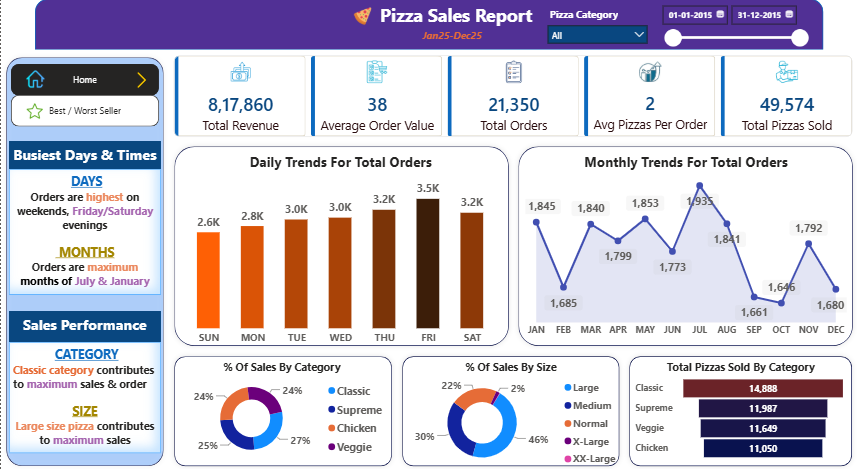

This screenshot's page, from the dashboard's own definition file:
{"tool":"powerbi","page":{"name":"Home","canvas":[1280,720],"ordinal":0},"visuals":[{"type":"cardVisual","fields":{"Data":["pizza_sales.Total Revenue","pizza_sales.Average Order Value","pizza_sales.Total Orders","pizza_sales.Avg Pizzas Per Order","pizza_sales.Total Pizzas Sold"]},"box":[250.3,94.1,1029.7,132.7],"z":0},{"type":"shape","box":[50.4,15.1,1177.5,75.6],"z":1000},{"type":"textbox","box":[529.1,15.1,302.4,50.4],"z":2000},{"type":"textbox","box":[624.9,53.8,109.2,40.3],"z":3000},{"type":"image","box":[517.4,26.9,47,26.9],"z":4000},{"type":"shape","box":[250.3,226.8,515.7,314.1],"z":5000},{"type":"columnChart","title":"Daily Trends For Total Orders","fields":{"Y":["pizza_sales.Total Orders"],"Category":["pizza_sales.Order Day"]},"box":[262,243.6,492.2,297.3],"z":6000},{"type":"shape","box":[764.3,226.8,515.7,314.1],"z":7000},{"type":"shape","box":[250.9,540.6,341,180.2],"z":8000},{"type":"areaChart","title":"Monthly Trends For Total Orders","fields":{"Y":["pizza_sales.Total Orders"],"Category":["pizza_sales.Order Month"]},"box":[778.1,244.2,490.1,284.6],"z":9000},{"type":"shape","box":[591.2,540.6,340.2,180.2],"z":10000},{"type":"shape","box":[931.4,540.6,348.6,180.2],"z":11000},{"type":"donutChart","title":"% Of Sales By Category","fields":{"Y":["pizza_sales.Total Revenue"],"Category":["pizza_sales.pizza_category"]},"box":[256,554.1,328.4,153.3],"z":12000},{"type":"donutChart","title":"% Of Sales By Size","fields":{"Y":["pizza_sales.Total Revenue"],"Category":["pizza_sales.pizza_size"]},"box":[591.2,554.1,340.2,166.7],"z":13000},{"type":"funnel","title":"Total Pizzas Sold By Category","fields":{"Category":["pizza_sales.pizza_category"],"Y":["pizza_sales.Total Pizzas Sold"]},"box":[943.2,554.1,325.1,153.3],"z":14000},{"type":"shape","box":[0,94.3,250.9,626.5],"z":15000},{"type":"textbox","box":[11.8,226.8,226.8,42],"z":16000},{"type":"textbox","box":[11.8,268.8,226.8,188.1],"z":17000},{"type":"textbox","box":[11.8,480.4,226.8,47],"z":18000},{"type":"textbox","box":[11.8,527.5,226.8,166.3],"z":19000},{"type":"slicer","fields":{"Values":["pizza_sales.pizza_category"]},"box":[806.8,22.7,169.4,61.1],"z":20000},{"type":"slicer","fields":{"Values":["pizza_sales.order_date"]},"box":[975.4,14.9,239,79.2],"z":21000},{"type":"pageNavigator","box":[14.9,112,221.1,47.8],"z":21001},{"type":"pageNavigator","box":[14.9,158.3,221.1,47.8],"z":21002},{"type":"image","box":[194.2,124,31.4,23.9],"z":21003},{"type":"image","box":[14.9,121,73.2,26.9],"z":21004},{"type":"image","box":[16.4,170.3,67.2,23.9],"z":21005}]}

Visuals, with their boxes in screenshot pixels (x1, y1, x2, y2), scaled from the page's 1280x720 canvas onto the 857x469 screenshot:
cardVisual - pizza_sales.Total Revenue x pizza_sales.Average Order Value: left=168, top=61, right=856, bottom=148
shape: left=34, top=10, right=822, bottom=59
textbox: left=354, top=10, right=557, bottom=43
textbox: left=418, top=35, right=492, bottom=61
image: left=346, top=18, right=378, bottom=35
shape: left=168, top=148, right=513, bottom=352
"Daily Trends For Total Orders" columnChart: left=175, top=159, right=505, bottom=352
shape: left=512, top=148, right=856, bottom=352
shape: left=168, top=352, right=396, bottom=468
"Monthly Trends For Total Orders" areaChart: left=521, top=159, right=849, bottom=344
shape: left=396, top=352, right=624, bottom=468
shape: left=624, top=352, right=856, bottom=468
"% Of Sales By Category" donutChart: left=171, top=361, right=391, bottom=461
"% Of Sales By Size" donutChart: left=396, top=361, right=624, bottom=468
"Total Pizzas Sold By Category" funnel: left=632, top=361, right=849, bottom=461
shape: left=0, top=61, right=168, bottom=468
textbox: left=8, top=148, right=160, bottom=175
textbox: left=8, top=175, right=160, bottom=298
textbox: left=8, top=313, right=160, bottom=344
textbox: left=8, top=344, right=160, bottom=452
slicer - pizza_sales.pizza_category: left=540, top=15, right=654, bottom=55
slicer - pizza_sales.order_date: left=653, top=10, right=813, bottom=61
pageNavigator: left=10, top=73, right=158, bottom=104
pageNavigator: left=10, top=103, right=158, bottom=134
image: left=130, top=81, right=151, bottom=96
image: left=10, top=79, right=59, bottom=96
image: left=11, top=111, right=56, bottom=126
